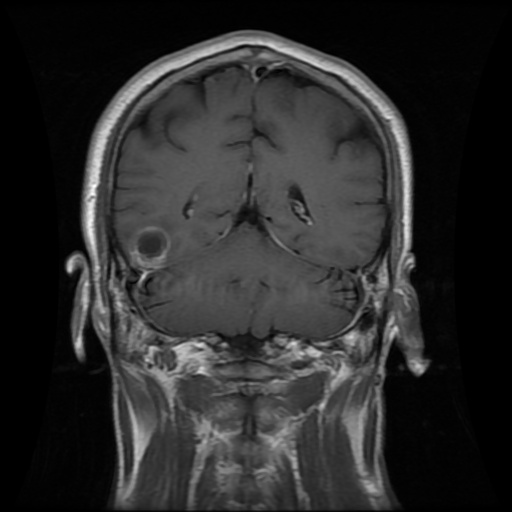glioma: (127, 225, 171, 269)
